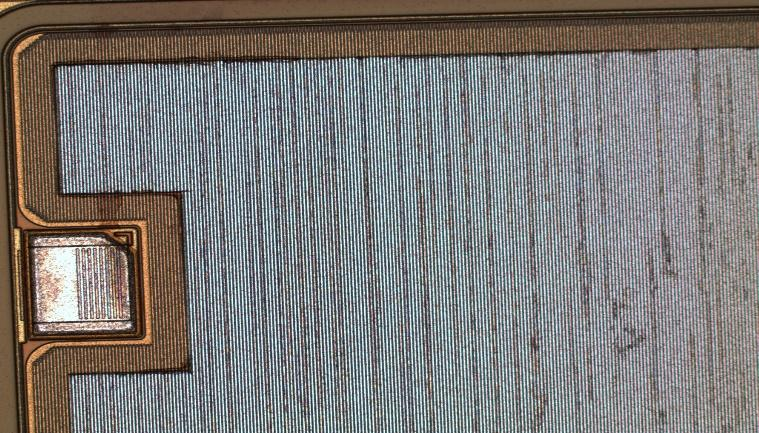SEZ BURNT: (56, 47, 759, 433)
